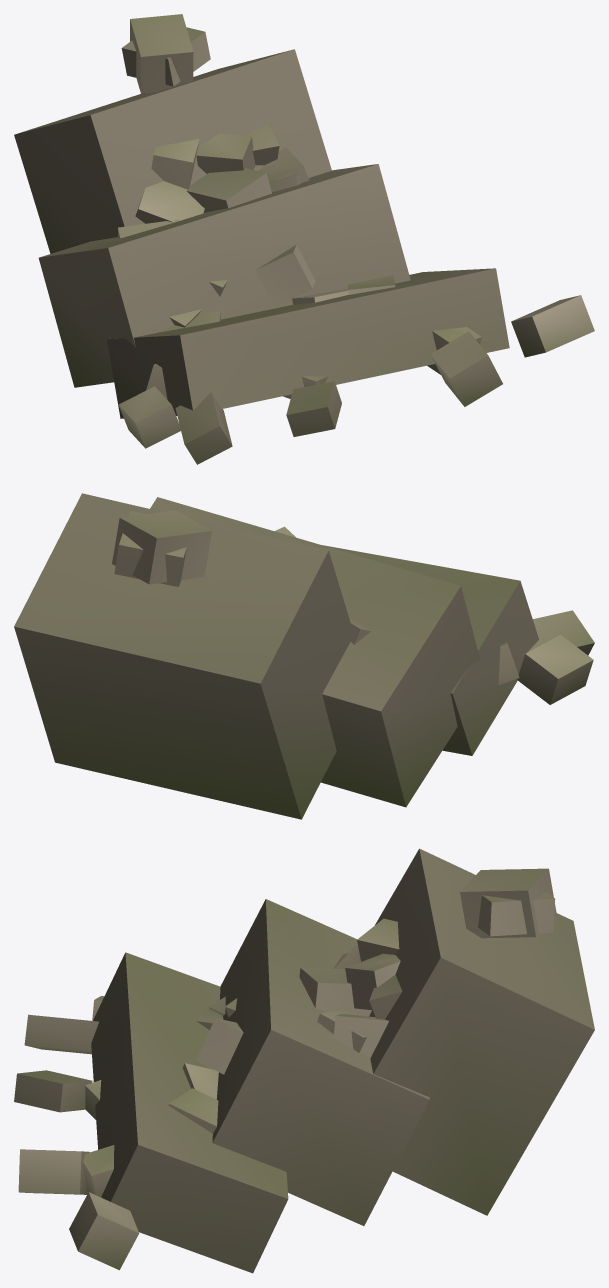
File: sanctuary_spill_mid.glb
3 views of the same model, one above another, from view 1: azimuth 30°, elevation 25°; view 2: azimuth 150°, elevation 25°; view 3: azimuth 270°, elevation 25° (orthographic). The views are drawn at different scales.
Parts seen in each view (by area): view 1: sanctuary_spill_mid; view 2: sanctuary_spill_mid; view 3: sanctuary_spill_mid.
Part boxes in pixels (<box>): sanctuary_spill_mid: <box>14,14,594,464</box>; sanctuary_spill_mid: <box>14,493,594,819</box>; sanctuary_spill_mid: <box>14,848,594,1273</box>.
Size of the model in its own units: 23.01 by 13.68 by 23.1.
